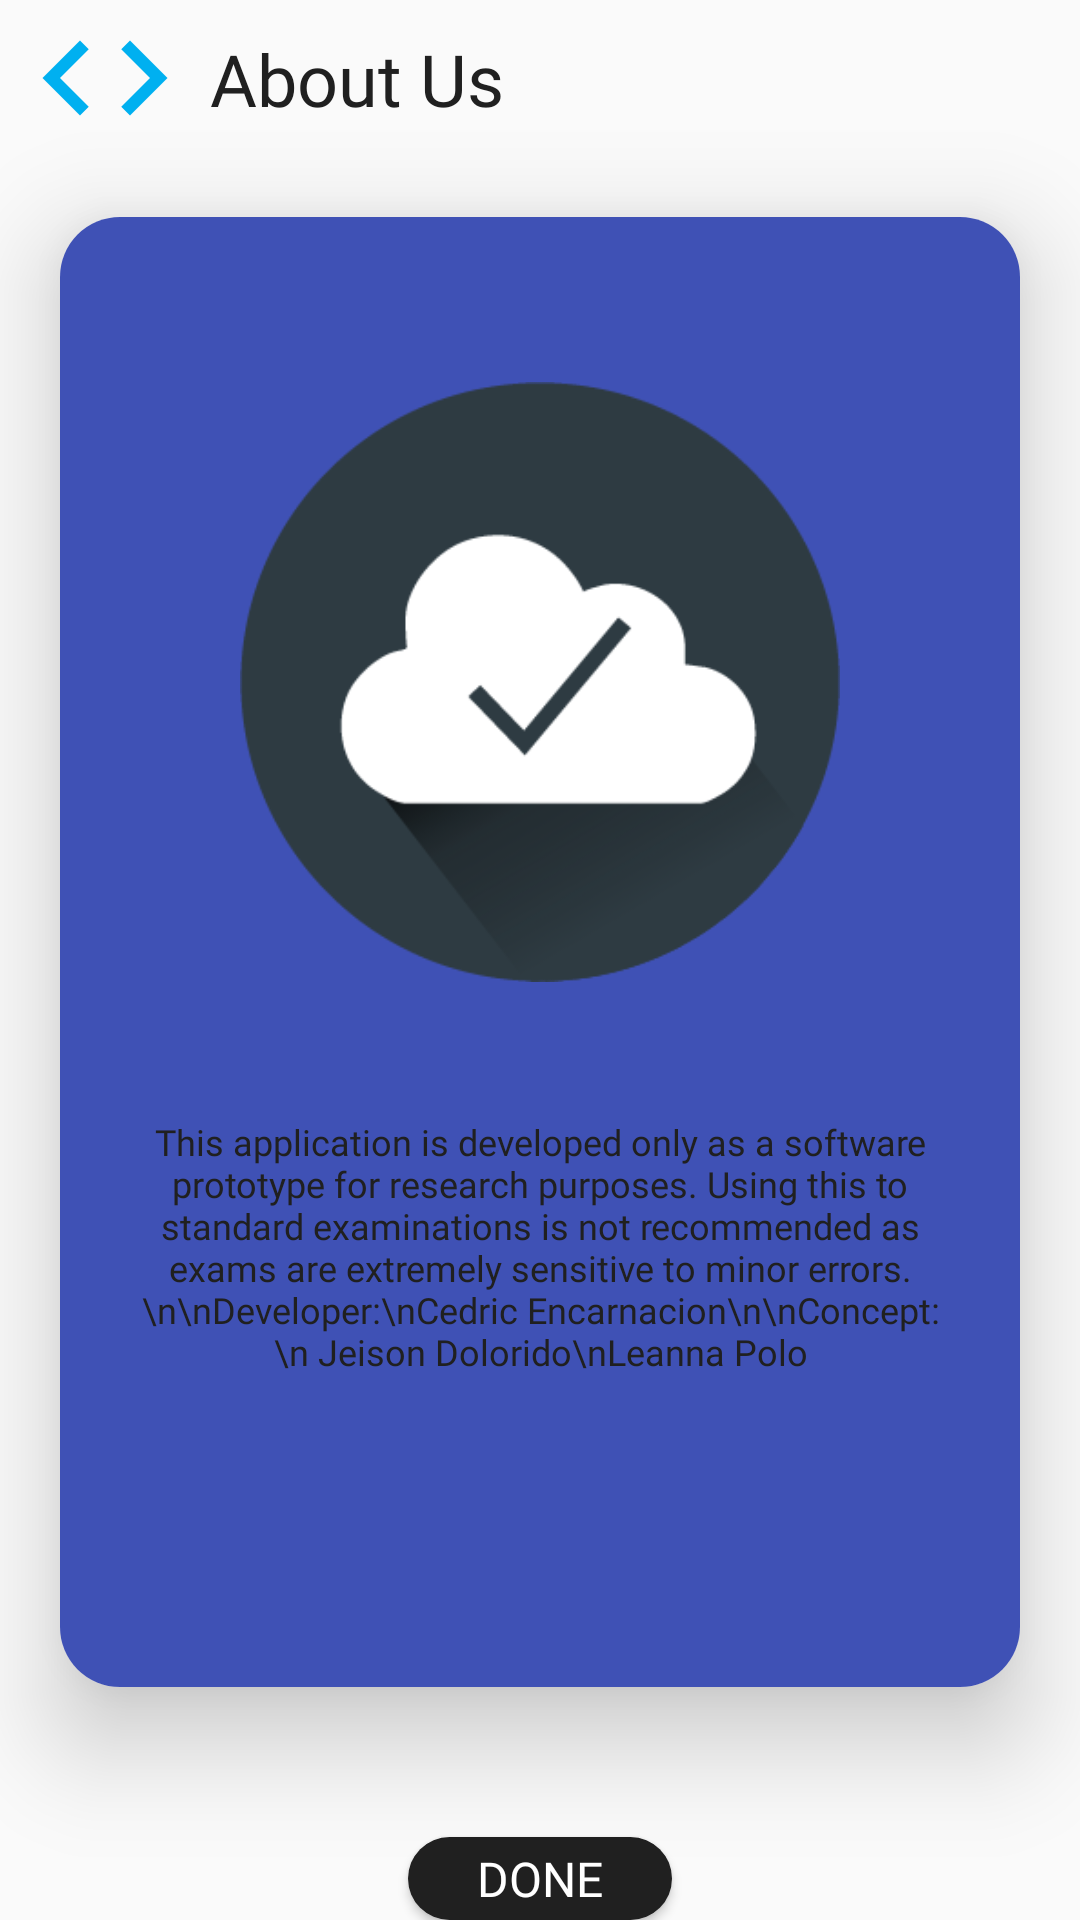

Point at icon controls on the screen. Image size 1080px×1920px, points as point (x, y).
code: point (105, 78)
